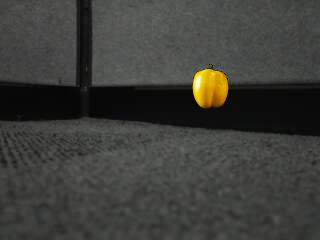Capsicum: (192, 63, 228, 109)
